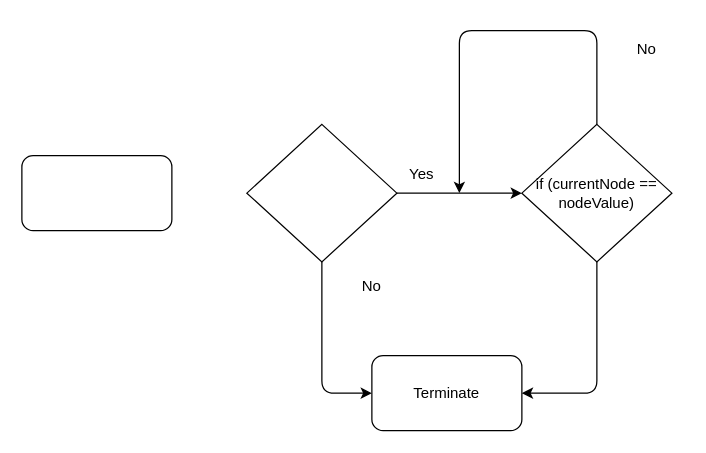
The diagram is 706 pixels wide and 453 high, and some of its shapes have lost their labels. The centre of each missing label's shape, as x and y in pixels:
Check Head?: pixel 321 192
nodeValue: pixel 96 192
